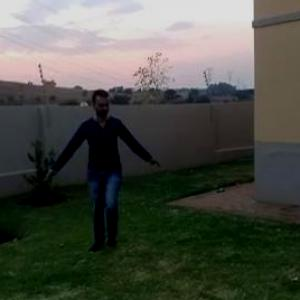land: (38, 78, 159, 272)
